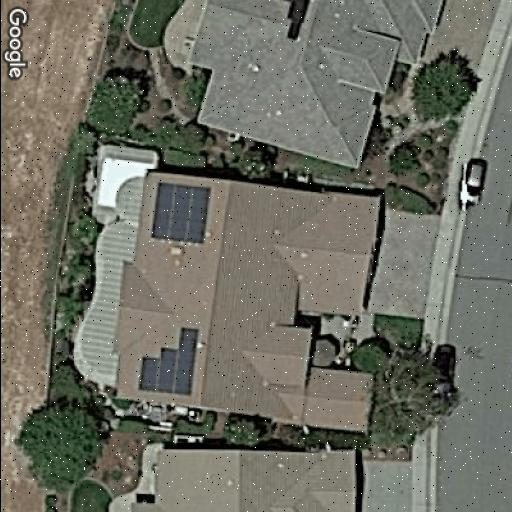solar-panel: (138, 326, 201, 398), (148, 178, 212, 248), (280, 0, 310, 45)
